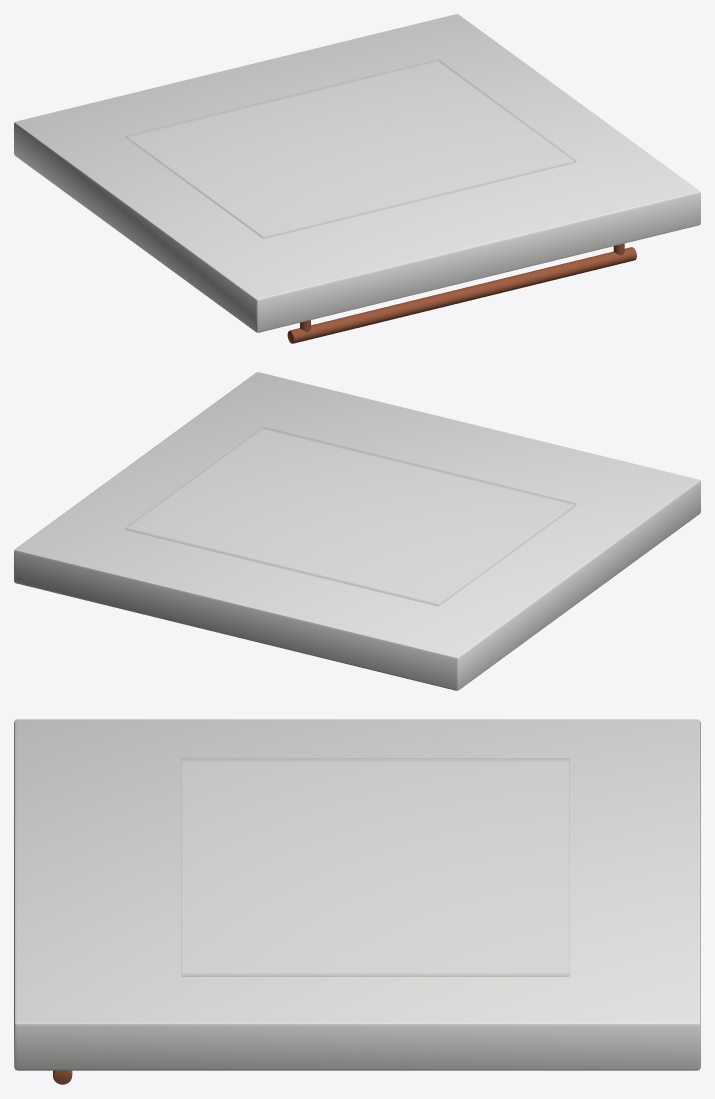
The model's file is freestanding_cooker_oven_door.glb.
The picture shows the model from 3 angles, top to bottom: view 1: azimuth 30°, elevation 25°; view 2: azimuth 150°, elevation 25°; view 3: azimuth 270°, elevation 25°; orthographic projection. The views are drawn at different scales.
Parts seen in each view (by area): view 1: freestanding_cooker_oven_door_x; view 2: freestanding_cooker_oven_door_x; view 3: freestanding_cooker_oven_door_x.
Boxes of the visible parts, box(x1,y1,x2,y2) form: freestanding_cooker_oven_door_x: box(14, 14, 700, 343); freestanding_cooker_oven_door_x: box(14, 372, 700, 690); freestanding_cooker_oven_door_x: box(14, 719, 700, 1084).
Bounding box in the file's own units: 0.596 × 0.093 × 0.566.
